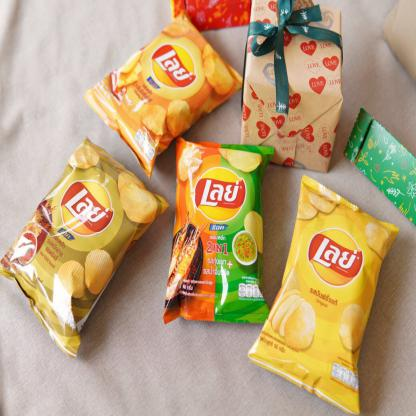potatochip: (0, 130, 173, 364), (243, 171, 403, 416), (82, 8, 245, 184), (159, 130, 278, 328)
